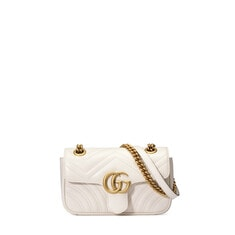Gucci: (61, 142, 177, 218), (102, 170, 132, 192)
